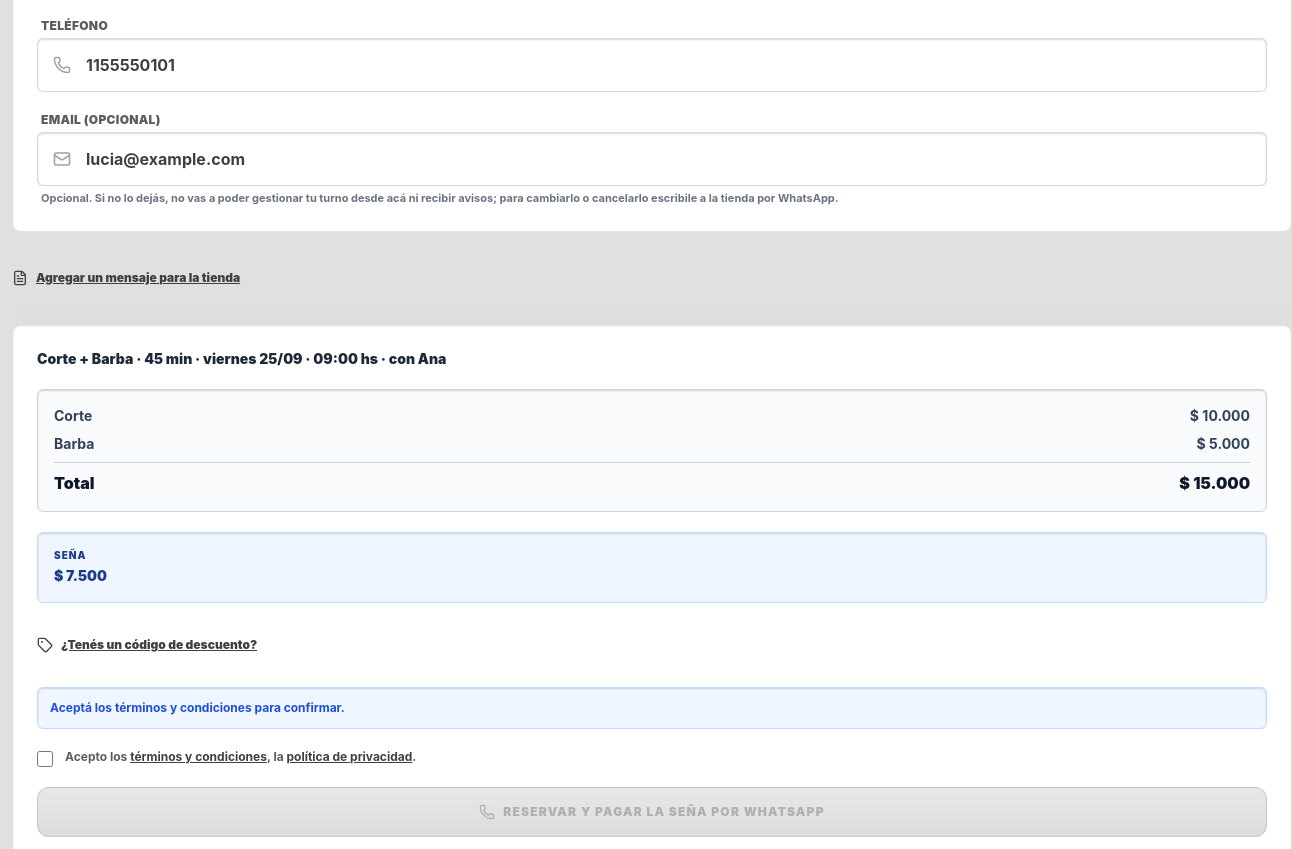
Test: BookingStepConfirmation con varios servicios › si la reserva rebota con TOO_MANY_SERVICES lo explica y no culpa al horario
The width and height of the screenshot is (1292, 849).
(page scrolled)
Step 1. Click the checkbox → x=45, y=759, box [37,751,53,767]
(page scrolled)
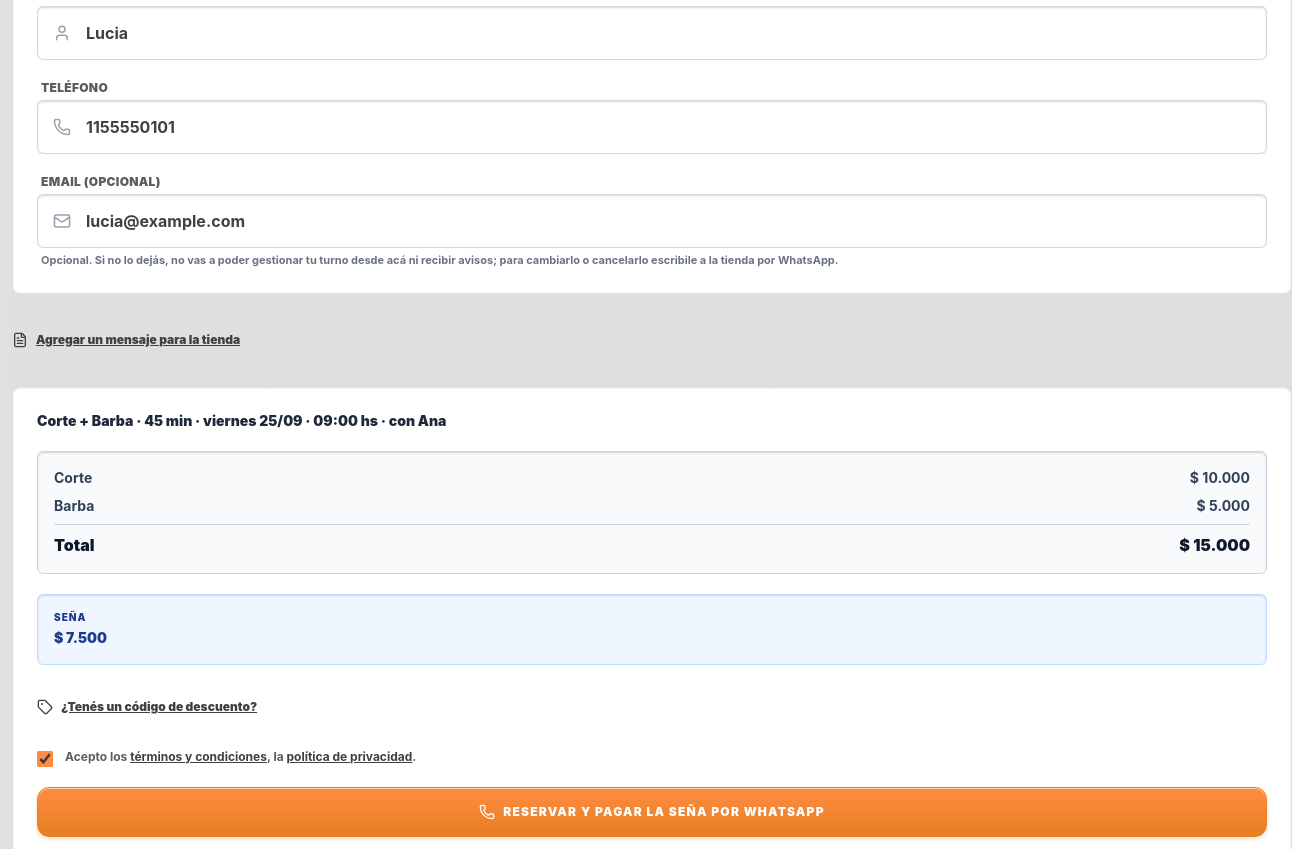
Expected: the button "Reservar y pagar la seña por WhatsApp" is enabled
Step 2. Click the button "Reservar y pagar la seña por WhatsApp" → x=652, y=812, box [37,787,1267,837]
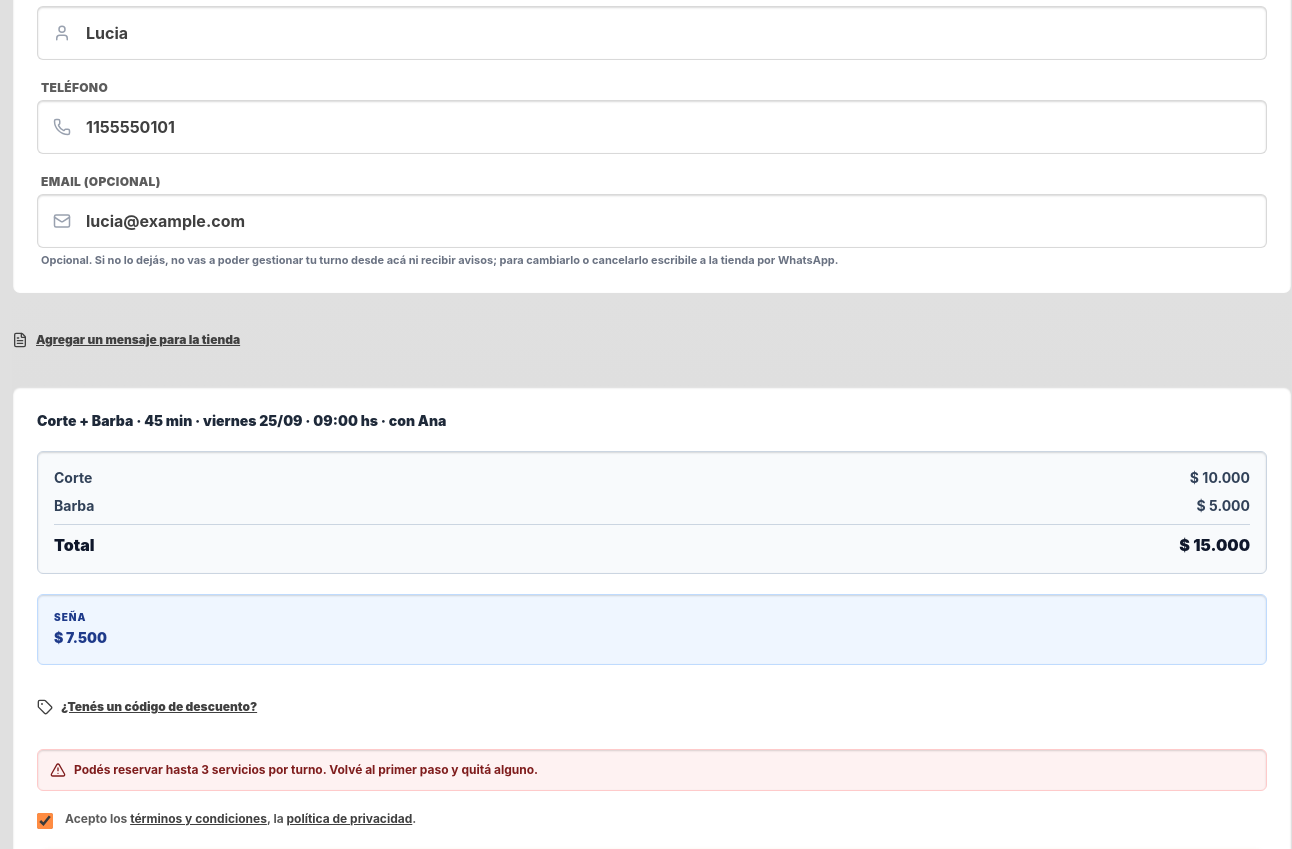
Expected: the text "Podés reservar hasta 3 servicios por turno." is shown, [74,762,538,777]
